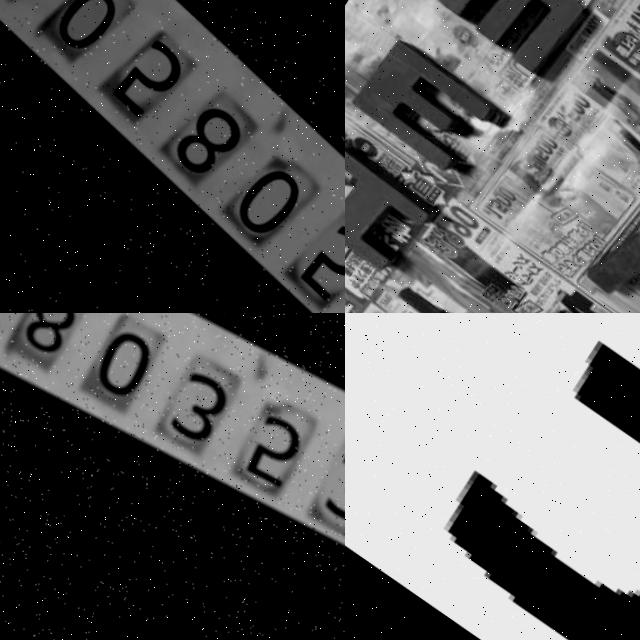0: (205, 136, 317, 256), (60, 313, 173, 421), (28, 0, 132, 70)
3: (345, 313, 640, 640), (135, 345, 247, 462), (287, 424, 345, 542)
5: (86, 13, 200, 135), (209, 385, 321, 504), (270, 197, 345, 313)
8: (146, 78, 257, 195), (0, 313, 92, 376)
E: (345, 30, 505, 183)
I: (345, 132, 427, 276)
U: (573, 206, 640, 313)
W: (433, 0, 590, 77)
